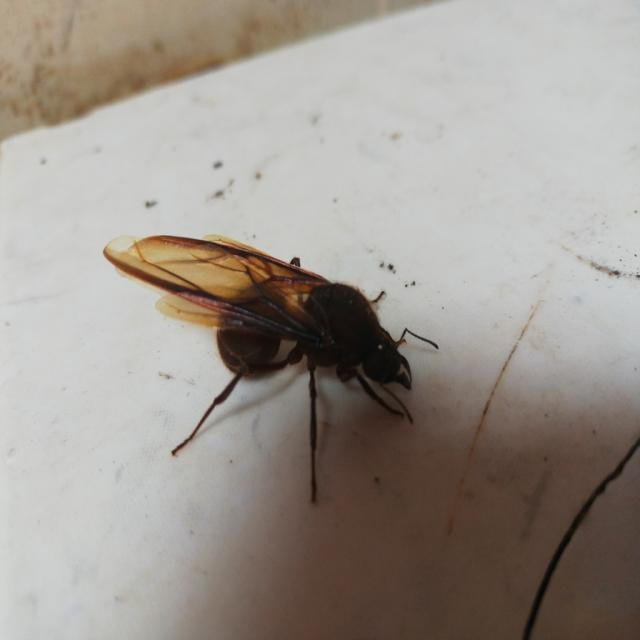Alive-Female-Alate: (103, 233, 440, 505)
